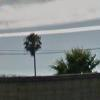Palm tree: (23, 24, 42, 77)
